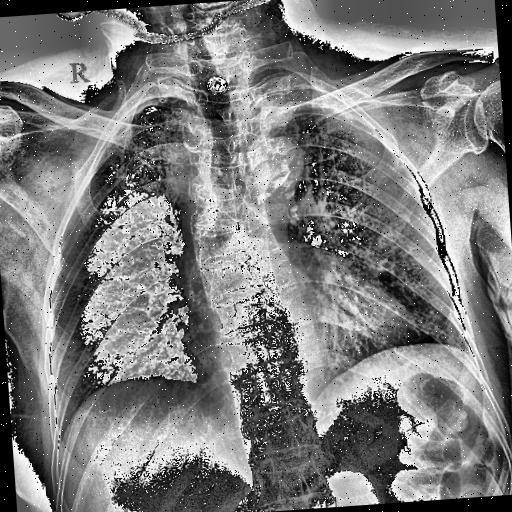0- Aortic enlargement: (153, 132, 319, 220), (193, 133, 312, 218), (198, 130, 310, 210)
11- Pleural thickening: (228, 56, 352, 128)
13- Pulmonary fibrosis: (348, 220, 436, 282)
2- Calcification: (198, 130, 310, 210), (254, 156, 298, 194), (278, 194, 306, 229)
5- ILD: (244, 85, 480, 370), (17, 86, 223, 411), (284, 99, 450, 353), (114, 104, 194, 204), (48, 254, 146, 322)
7- Lung Opacity: (252, 70, 304, 102)
9- Other lesion: (146, 116, 320, 390), (348, 220, 436, 282)
